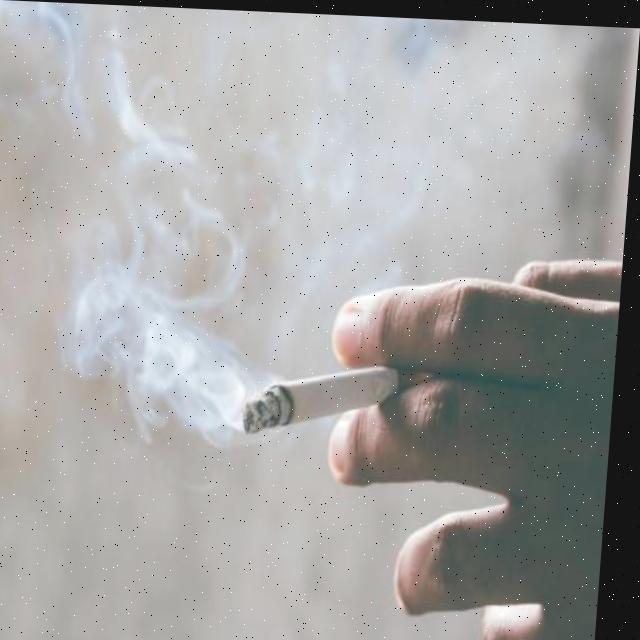cigarette: (247, 357, 414, 439)
